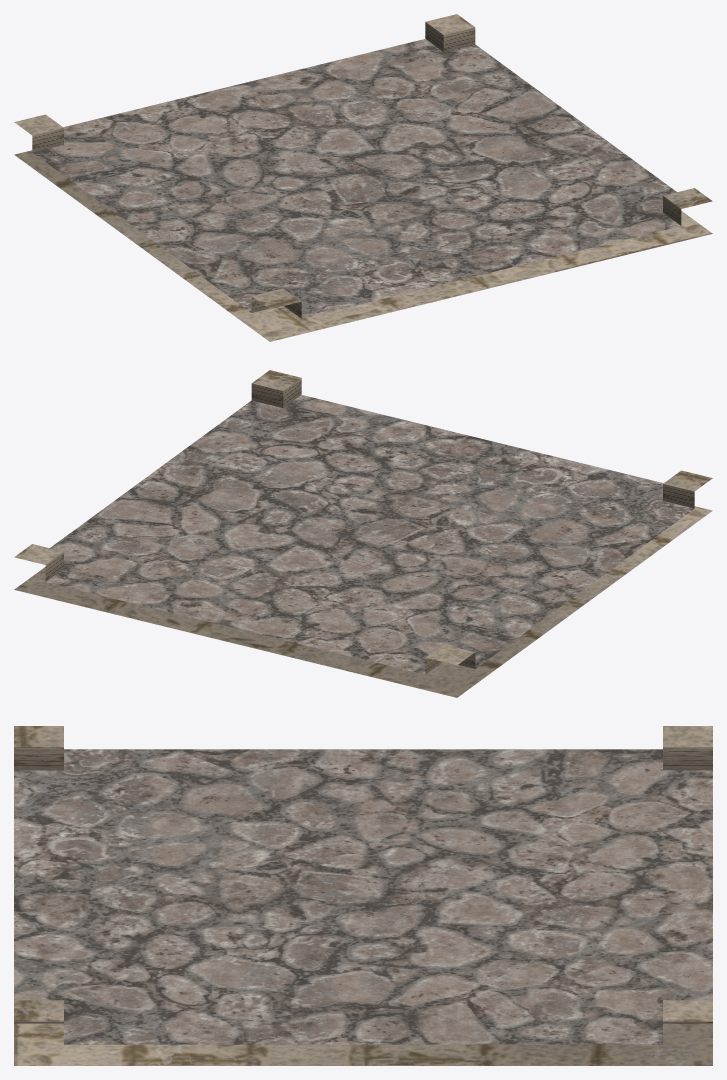
Rendered from ModuleRoof.fbx.
3 views of the same model, one above another, from view 1: azimuth 30°, elevation 25°; view 2: azimuth 150°, elevation 25°; view 3: azimuth 270°, elevation 25° (orthographic). The views are drawn at different scales.
Parts seen in each view (by area): view 1: ModuleRoofFloorTile, ModuleRoofFloorEdge, ModuleRoof; view 2: ModuleRoofFloorTile, ModuleRoofFloorEdge, ModuleRoof; view 3: ModuleRoofFloorTile, ModuleRoofFloorEdge, ModuleRoof.
Boxes of the visible parts, x1,y1,x2,y2 form: ModuleRoofFloorTile: [32, 39, 680, 318]; ModuleRoofFloorEdge: [14, 150, 712, 341]; ModuleRoof: [14, 14, 712, 318]; ModuleRoofFloorTile: [46, 395, 694, 674]; ModuleRoofFloorEdge: [14, 506, 712, 697]; ModuleRoof: [14, 370, 712, 674]; ModuleRoofFloorTile: [14, 749, 712, 1044]; ModuleRoofFloorEdge: [14, 1023, 712, 1065]; ModuleRoof: [14, 726, 712, 1023].
Size of the model in its own units: 300 by 21.01 by 300.
